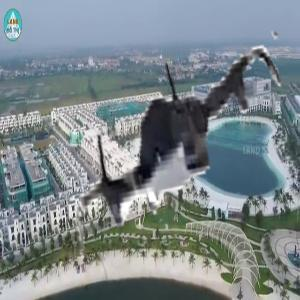drone: (45, 13, 300, 269)
